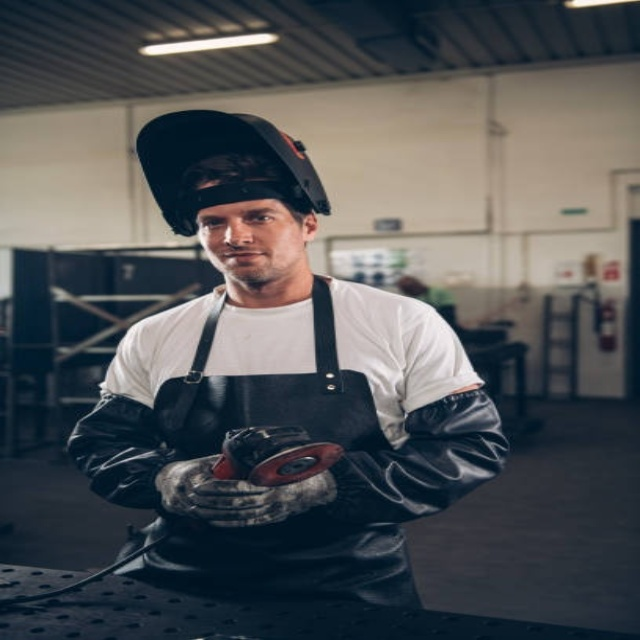Guantes: (155, 449, 341, 528)
Sin_gafas: (196, 203, 279, 234)
Sin_mascara: (220, 248, 268, 273)
